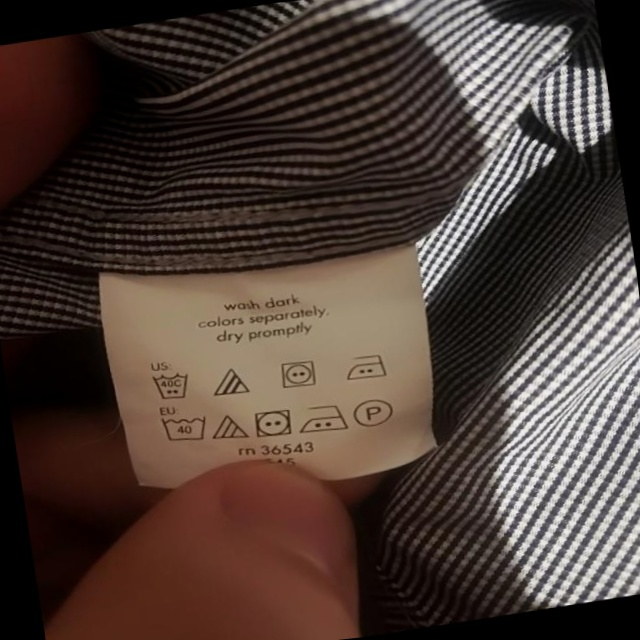40C: (156, 409, 216, 449), (152, 368, 198, 403)
dry_clean_any_solvent_except_trichloroethylene: (352, 394, 396, 431)
iron_medium: (299, 398, 351, 437), (340, 347, 391, 386)
non_chlorine_bleach: (210, 365, 255, 400), (209, 412, 251, 446)
tumble_dry_medium: (250, 404, 297, 443), (275, 357, 323, 392)
